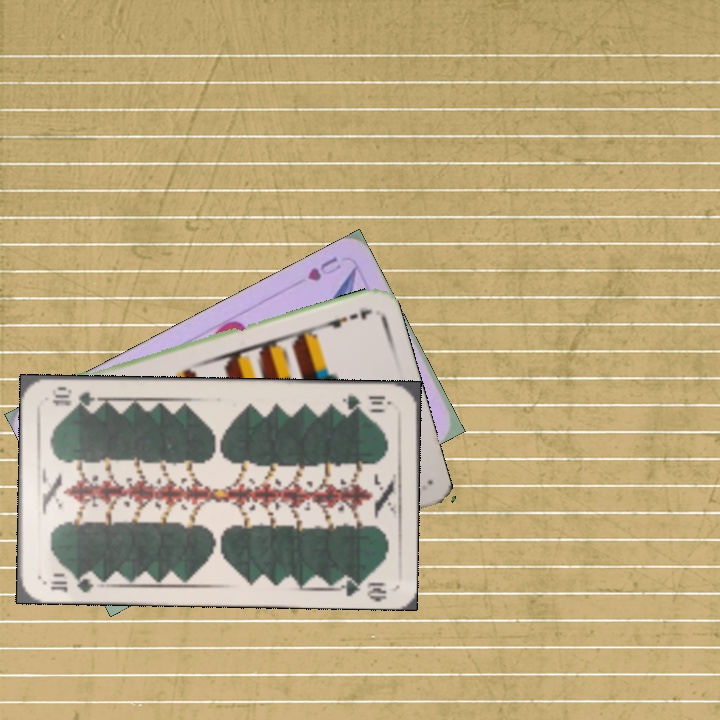E7: (316, 305, 374, 332)
G10: (338, 390, 394, 415), (46, 568, 97, 595)
HU: (303, 252, 344, 284)
